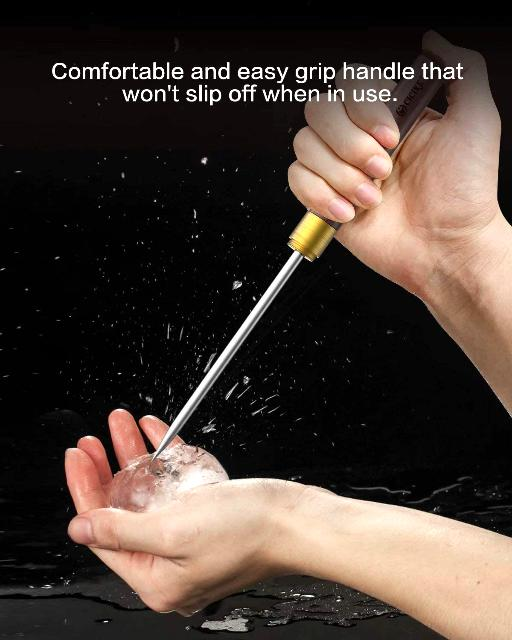ice pick: (146, 53, 446, 469)
